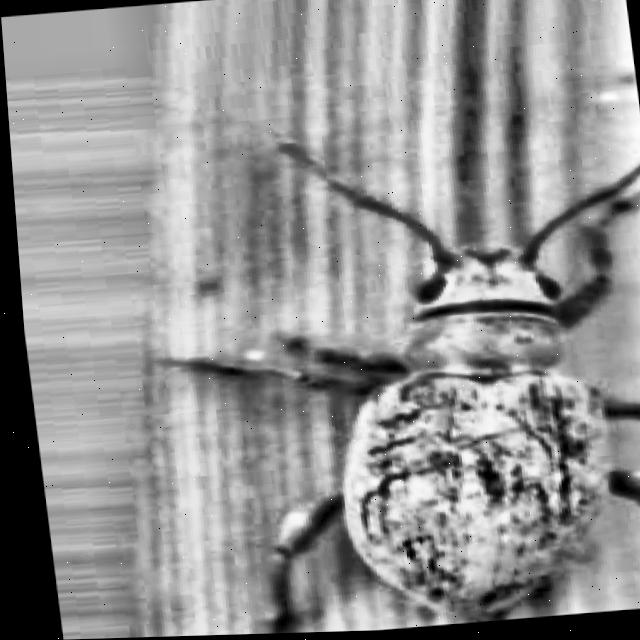Stink bug: (205, 167, 640, 635)
